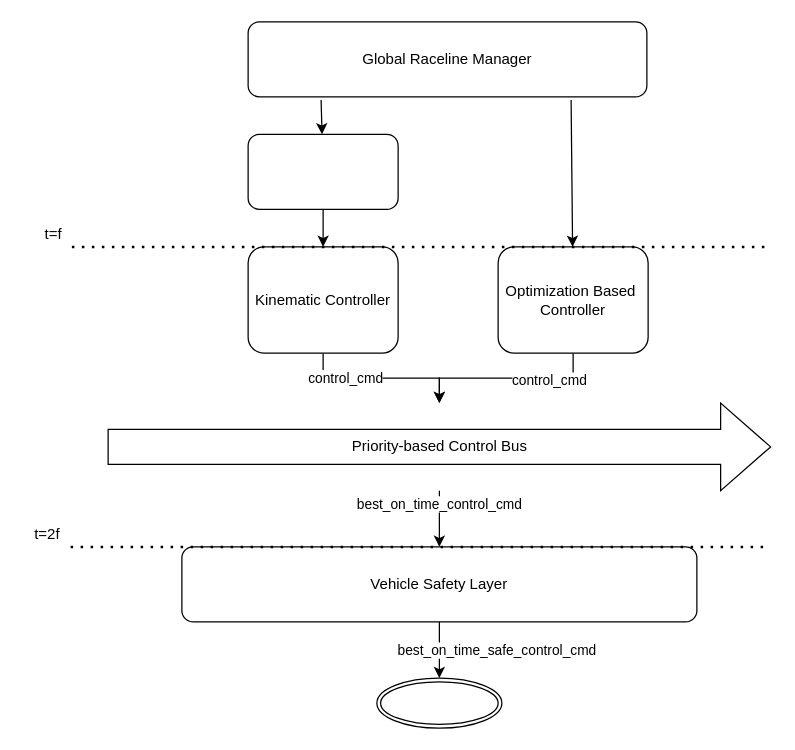
This 795x750 diagram has some shape labels left out. The shapes that lost their labels are listed below. From the top down, each one's centre as x and y in pixels, then its label:
At pixel 322 171: "Planner".
At pixel 439 702: "Racecar".
